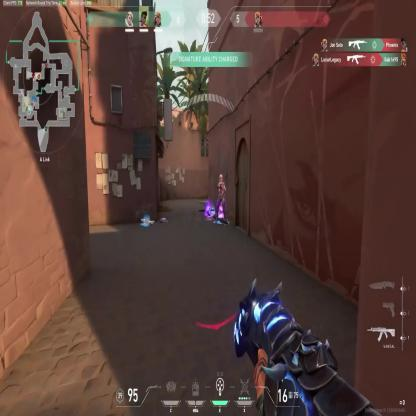enemy: (214, 172, 228, 223)
enemy_head: (219, 173, 223, 184)
